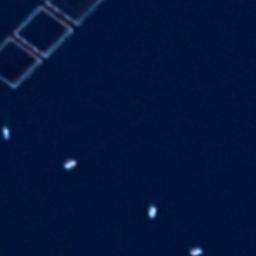square_solid: (10, 4, 78, 65), (1, 33, 46, 93), (38, 1, 109, 30)
